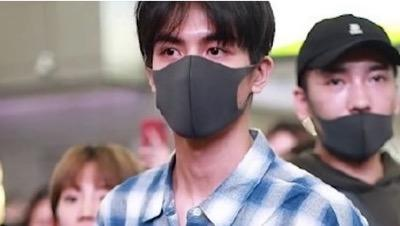mask_weared_incorrect: (304, 65, 397, 163)
with_mask: (151, 28, 254, 140)
without_mask: (57, 180, 113, 225)
